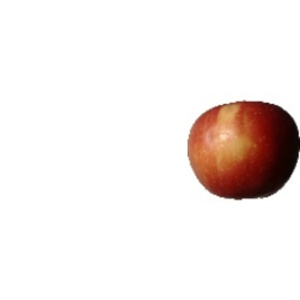maçã braeburn: (185, 98, 299, 200)
